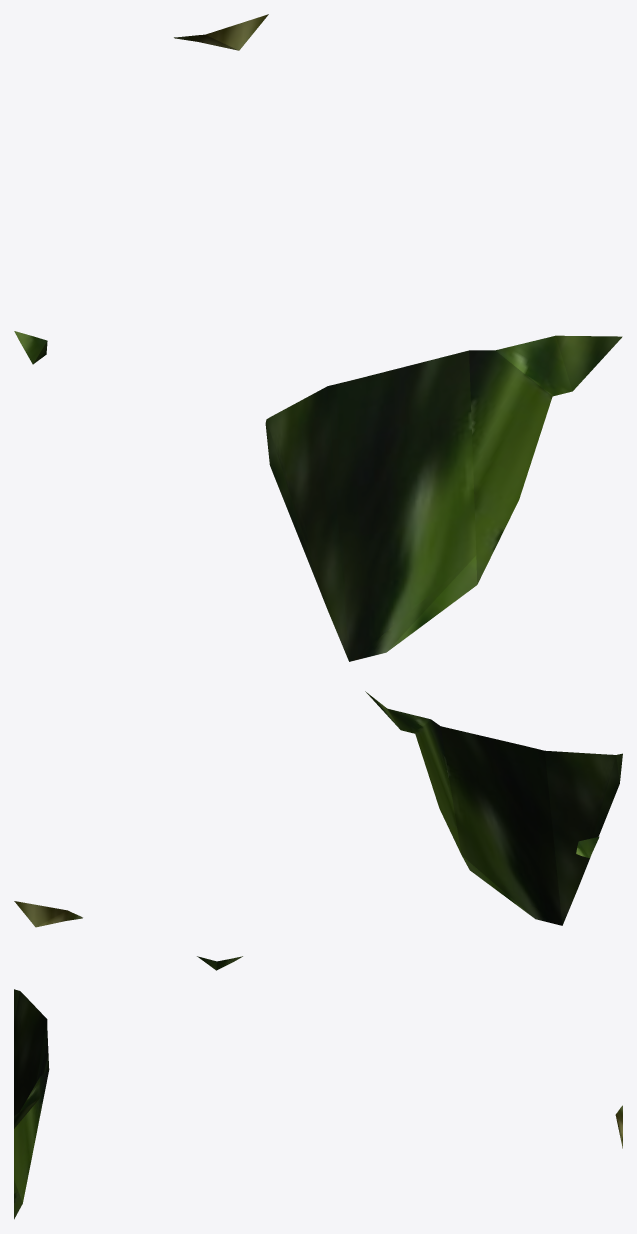
The picture shows the model from 3 angles, top to bottom: view 1: azimuth 30°, elevation 25°; view 2: azimuth 150°, elevation 25°; view 3: azimuth 270°, elevation 25°; orthographic projection. The views are drawn at different scales.
Size of the model in its own units: 0.5954 by 0.2852 by 0.8373.
1 material, 1 textured.
